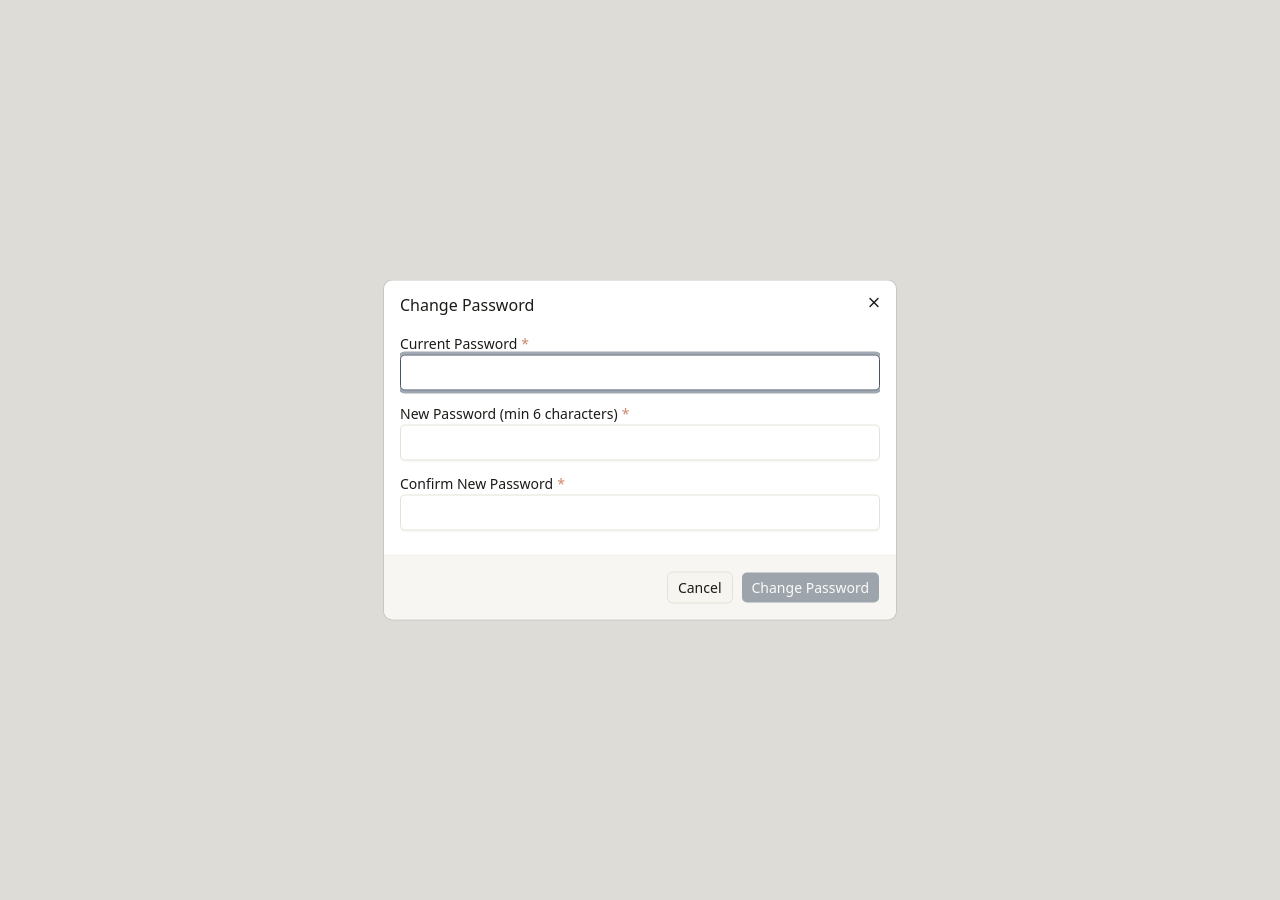
it: ChangePasswordDialog › rejects a mismatch and does not close
Type "old" into the password field labelled "Current Password*" at coordinates (640, 372), box [400,354,880,390]
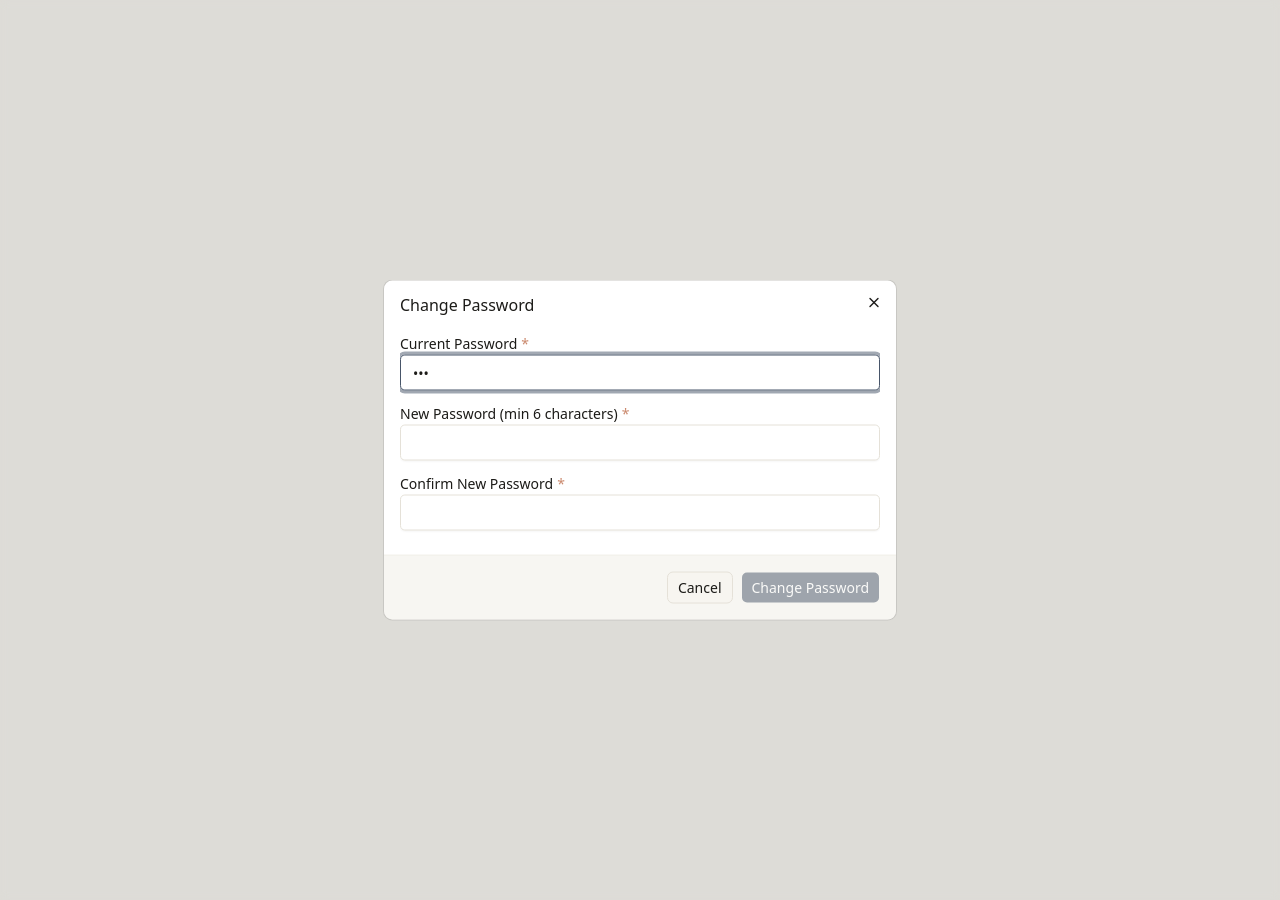
Type "newpass" into the password field labelled "New Password (min 6 characters)*" at coordinates (640, 442), box [400,424,880,460]
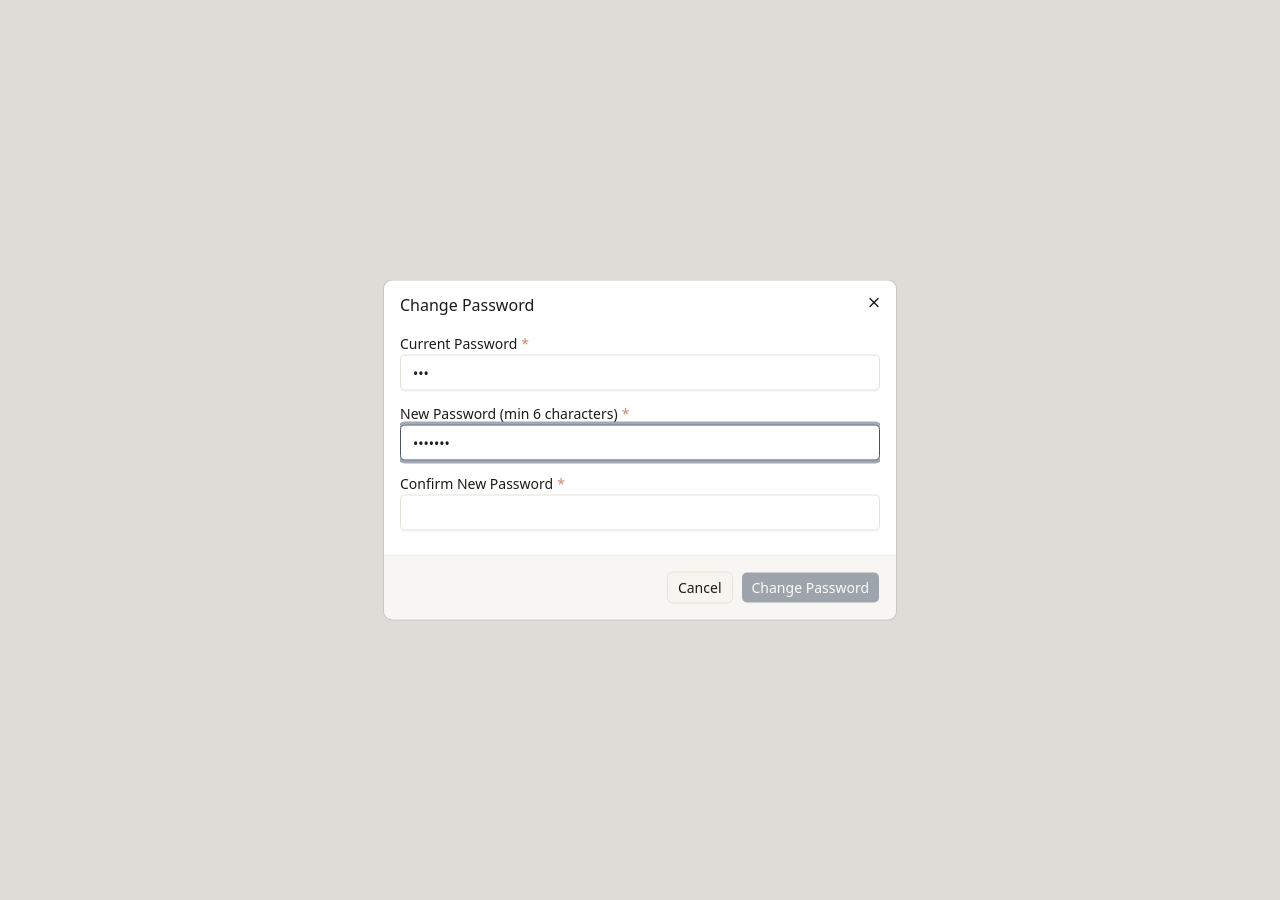
Type "different" into the password field labelled "Confirm New Password*" at coordinates (640, 512), box [400,494,880,530]
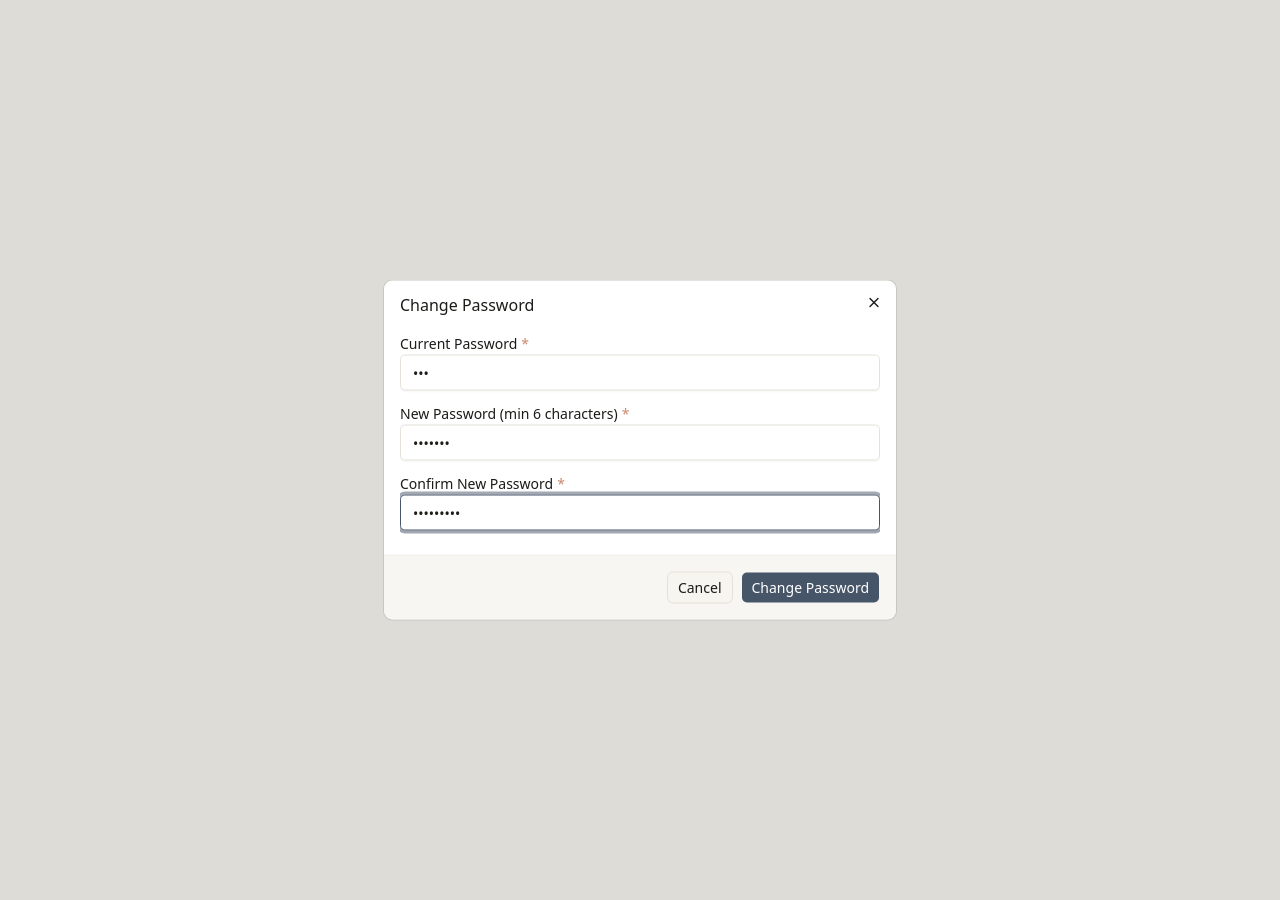
Click the button "Change Password" at coordinates (810, 588), box [740,572,880,604]
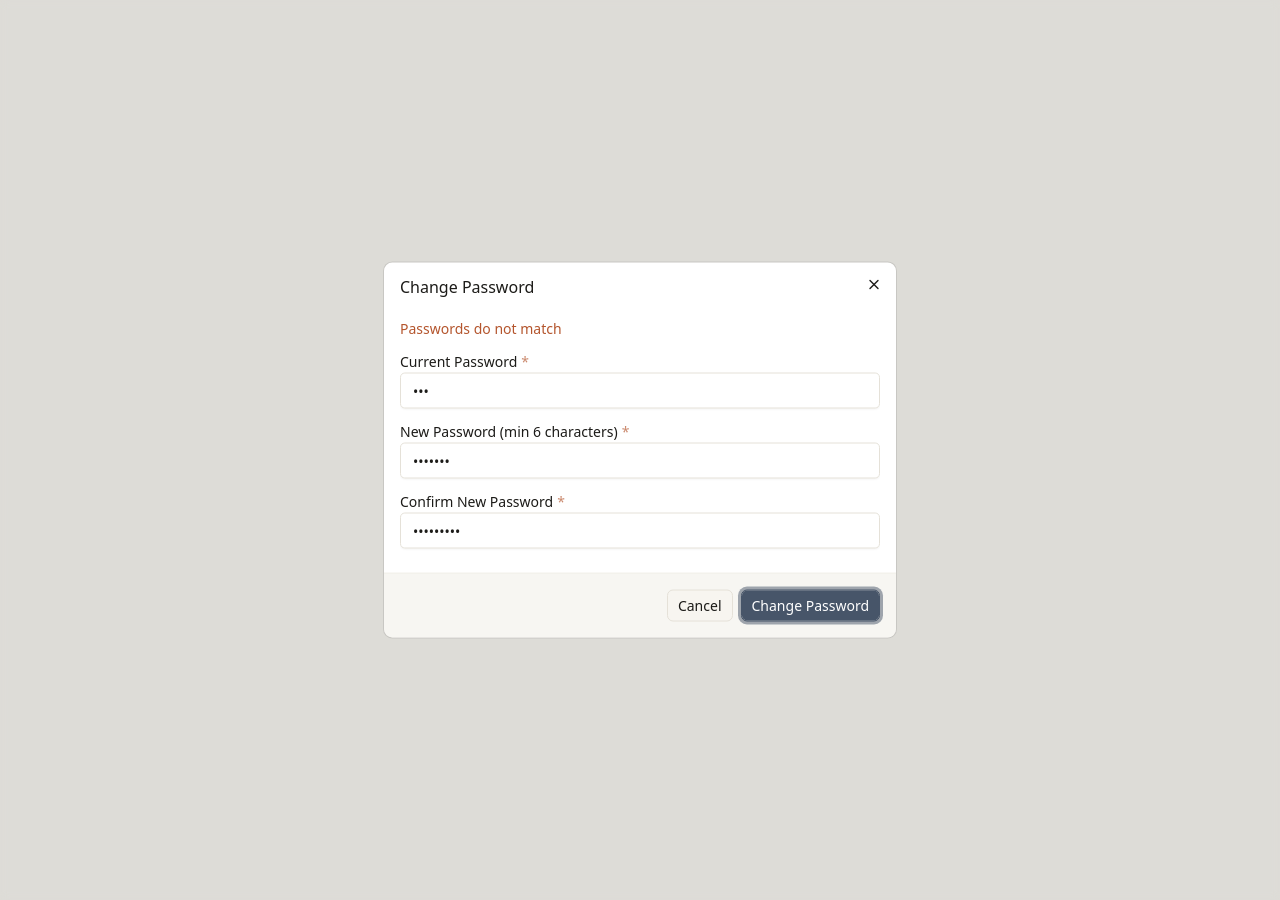
Expected: the text "Passwords do not match" is shown, [400,318,562,338]
